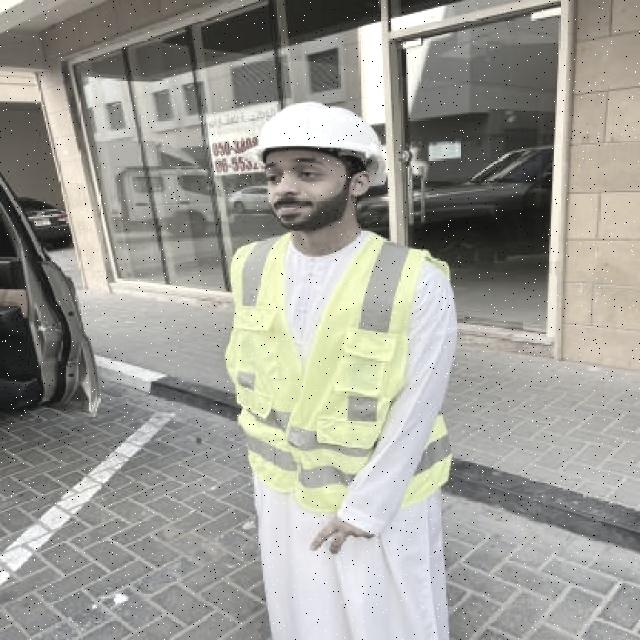Helmet: (252, 101, 386, 237)
Mask: (233, 239, 433, 501)
